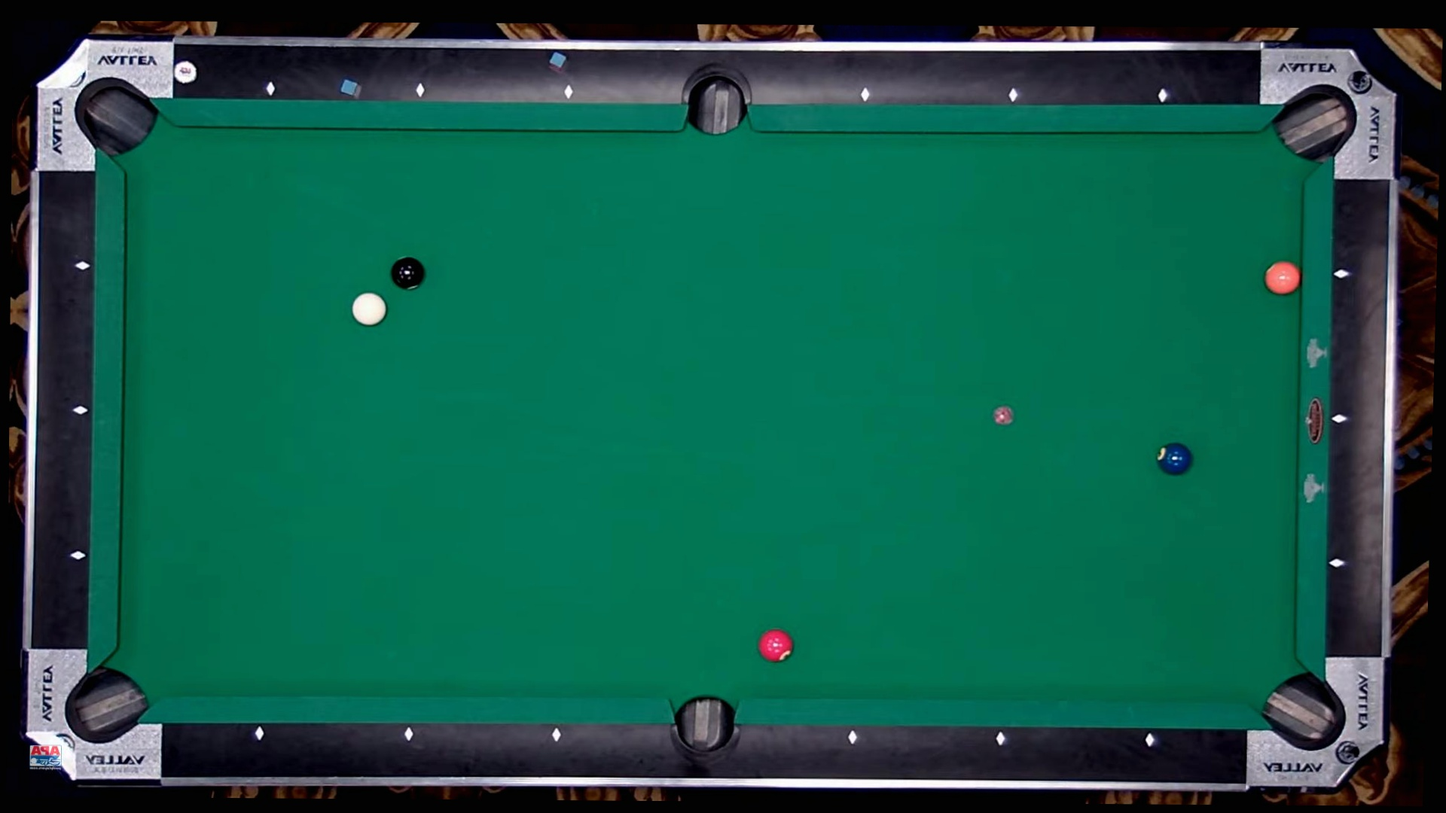Black: (1335, 267, 1346, 278), (1156, 91, 1167, 102), (859, 89, 870, 100), (563, 86, 574, 97), (76, 262, 87, 273), (73, 550, 84, 561), (253, 728, 264, 739), (551, 730, 562, 741), (1333, 557, 1343, 568), (1335, 414, 1346, 424), (416, 85, 426, 96), (267, 83, 277, 94), (76, 405, 86, 416), (405, 729, 415, 740), (850, 731, 860, 742), (996, 734, 1007, 744), (1145, 735, 1156, 745), (1009, 91, 1019, 101)
Cue: (1156, 442, 1192, 476), (1264, 261, 1300, 295), (758, 628, 793, 662)
Solid: (391, 256, 426, 291)
Stripe: (352, 292, 386, 327)
